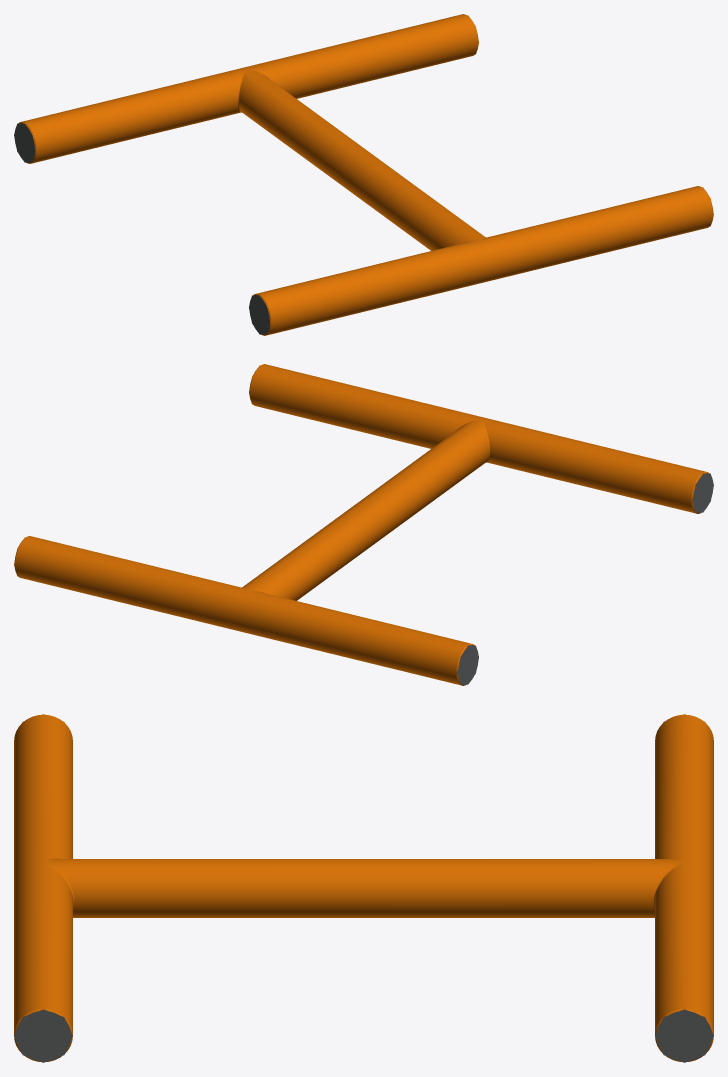
The picture shows the model from 3 angles, top to bottom: view 1: azimuth 30°, elevation 25°; view 2: azimuth 150°, elevation 25°; view 3: azimuth 270°, elevation 25°; orthographic projection. The views are drawn at different scales.
Parts seen in each view (by area): view 1: m4_LOD0, m4_col; view 2: m4_LOD0, m4_col; view 3: m4_LOD0, m4_col.
Part boxes in pixels (bbox=[...]): m4_LOD0: bbox=[14, 14, 713, 335]; m4_col: bbox=[14, 15, 713, 334]; m4_LOD0: bbox=[14, 364, 713, 685]; m4_col: bbox=[14, 365, 713, 684]; m4_LOD0: bbox=[14, 714, 713, 1061]; m4_col: bbox=[14, 714, 713, 1062].
Size of what is drawn, in the model's own units: 144 by 12.21 by 144.
